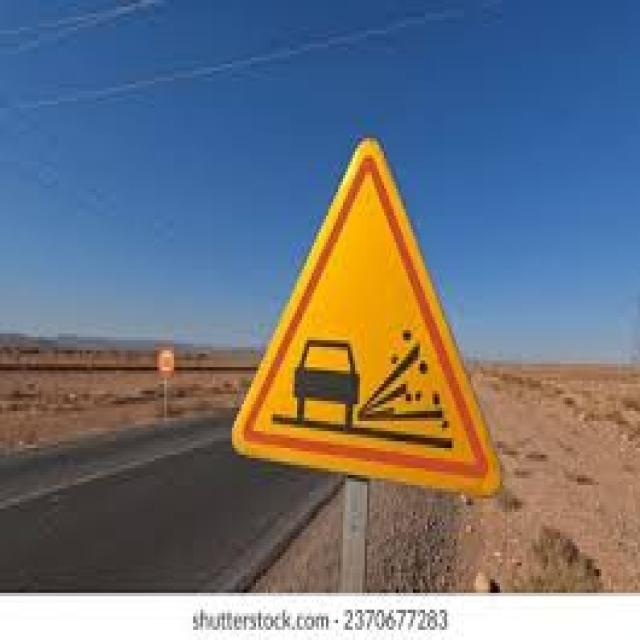loose gravel: (230, 133, 501, 497)
